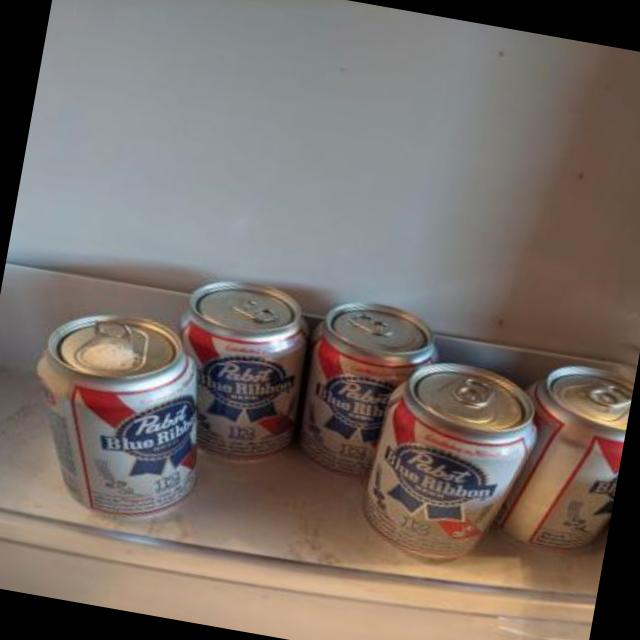metal: (364, 362, 535, 556), (37, 314, 197, 516), (500, 365, 633, 544), (300, 302, 433, 472), (181, 282, 306, 459)
